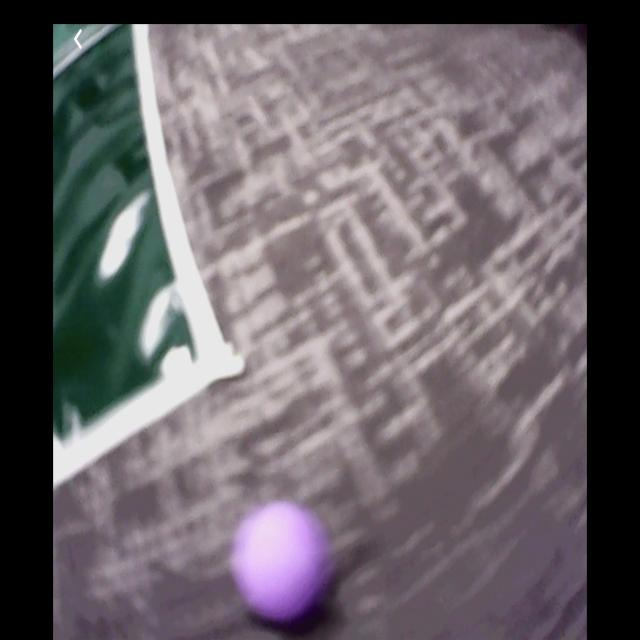ball: (234, 506, 332, 625)
